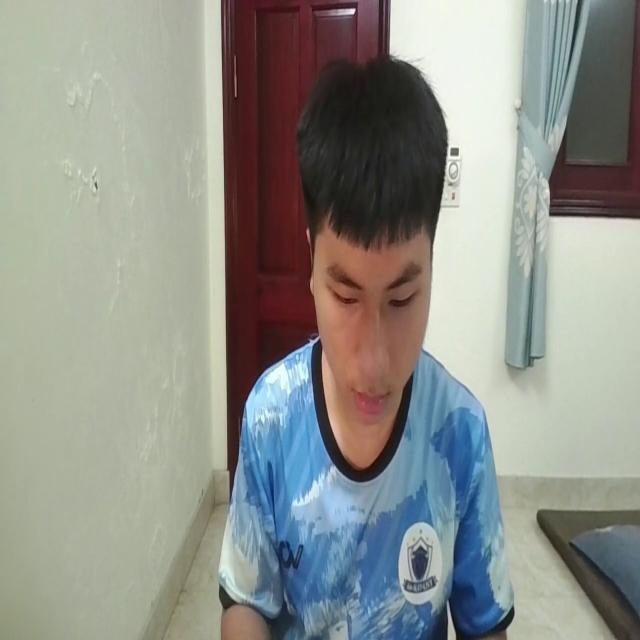student: (218, 50, 512, 640)
